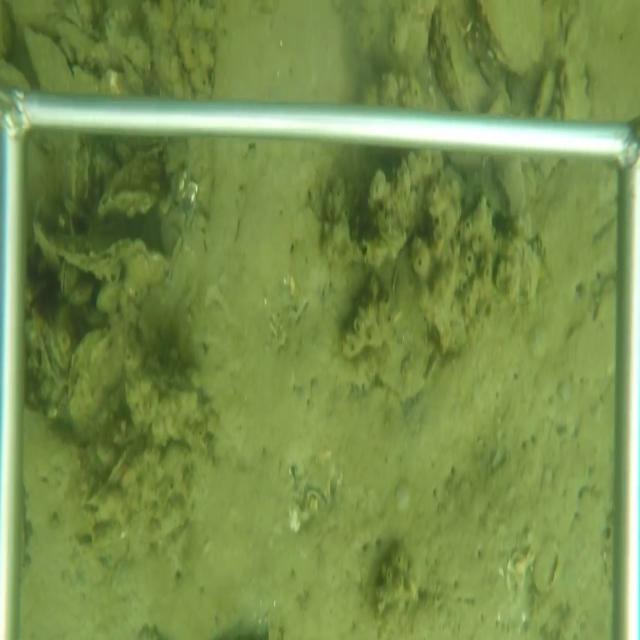Oyster-Closed: (34, 218, 173, 297), (431, 4, 496, 111)
Oyster-Indeterminate: (358, 237, 435, 400), (21, 21, 74, 92), (120, 50, 146, 94)
